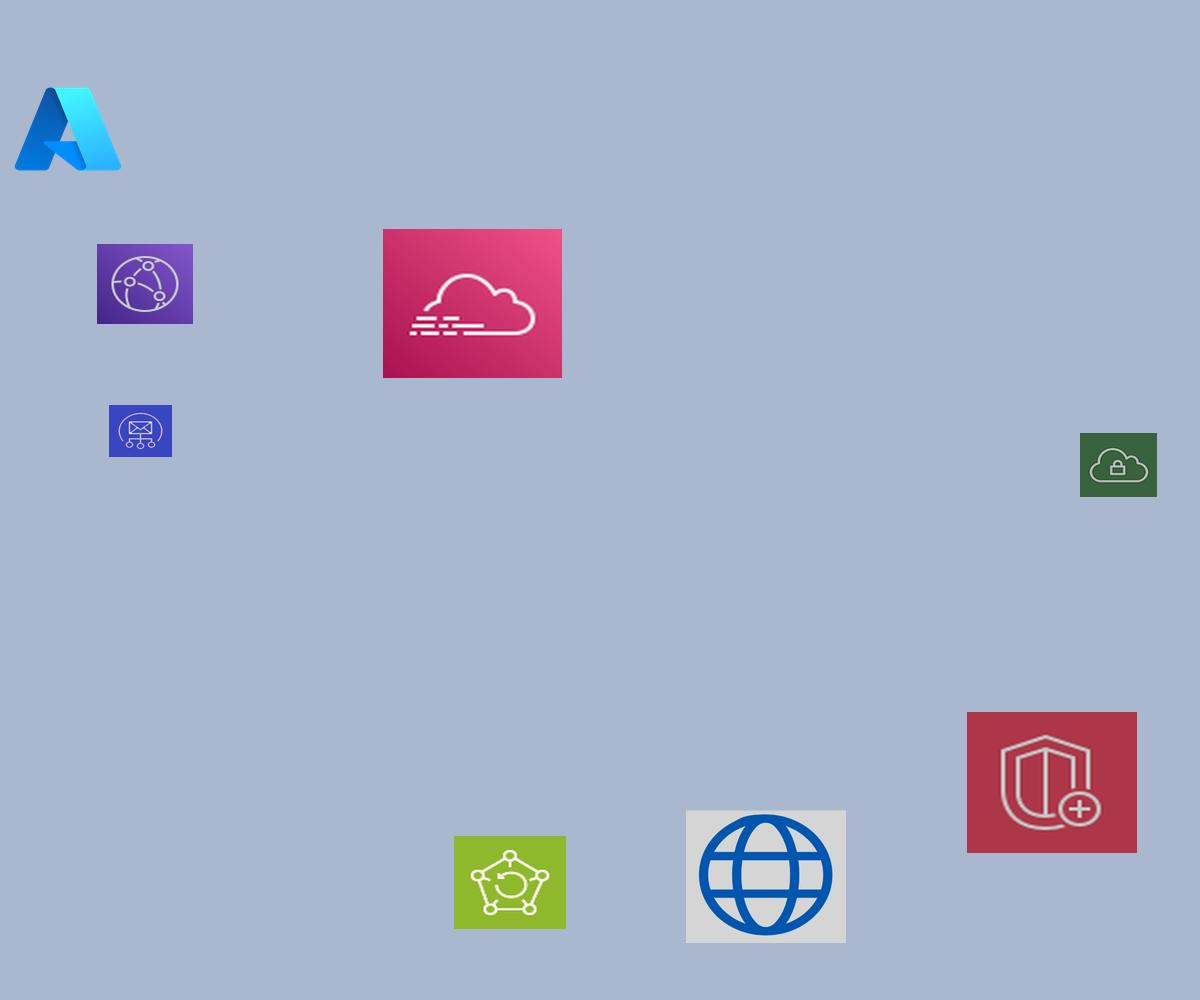AWS-Backup: (454, 836, 566, 929)
AWS-CloudFront: (97, 244, 193, 324)
AWS-CloudTrail: (383, 229, 562, 378)
AWS-Private_vpc: (1080, 433, 1157, 497)
AWS-Shield: (967, 712, 1137, 853)
AWS-Simple-Email-Service: (109, 405, 172, 457)
Azure_http: (686, 810, 846, 943)
Azure_services: (10, 81, 126, 177)
